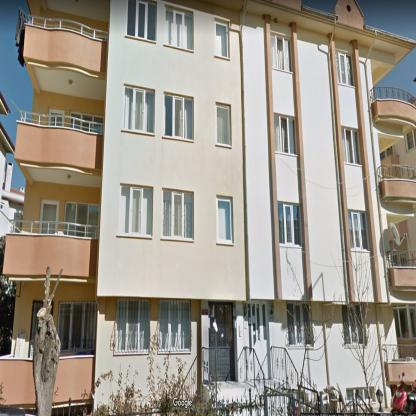door: (209, 302, 235, 380), (243, 301, 268, 379), (38, 199, 60, 234), (48, 108, 65, 125)
window: (58, 302, 96, 355), (115, 299, 150, 352), (118, 185, 153, 237), (161, 189, 193, 240), (159, 301, 190, 352), (122, 86, 154, 135), (164, 94, 193, 140), (164, 6, 192, 51), (64, 202, 100, 237), (126, 1, 157, 41), (278, 203, 302, 246), (288, 302, 309, 346), (274, 114, 297, 154), (349, 210, 370, 250), (271, 34, 292, 72), (217, 196, 233, 244), (342, 306, 362, 343), (29, 300, 42, 356), (394, 305, 415, 339), (342, 127, 361, 164), (70, 112, 103, 133), (336, 52, 355, 86), (216, 104, 231, 146), (214, 20, 229, 59), (405, 128, 415, 152), (380, 145, 393, 160)
